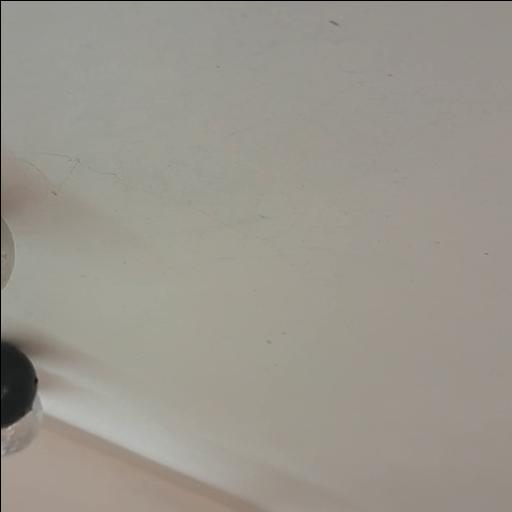alive: (0, 396, 40, 456), (0, 212, 16, 294)
dead: (0, 345, 36, 426)
